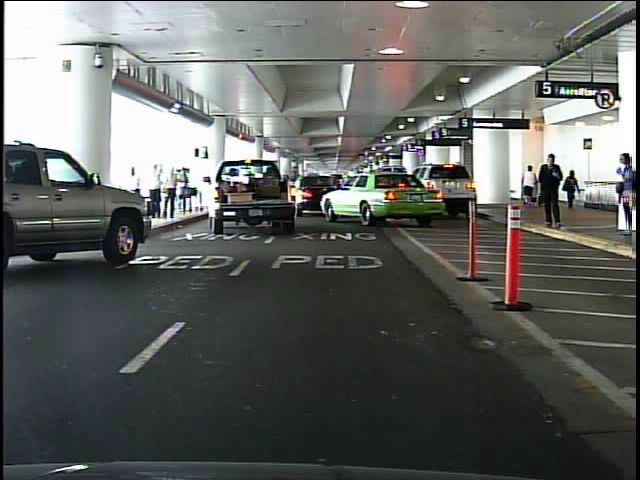person: (536, 147, 567, 233), (608, 151, 634, 240), (563, 168, 582, 212), (523, 162, 538, 209)
